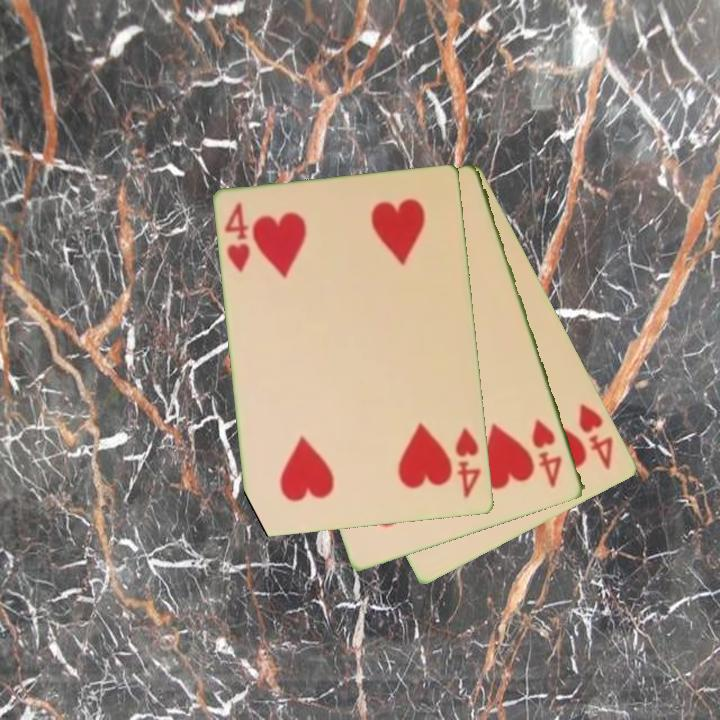4h: (575, 400, 617, 473), (528, 415, 566, 491), (452, 424, 484, 502), (221, 200, 254, 275)
